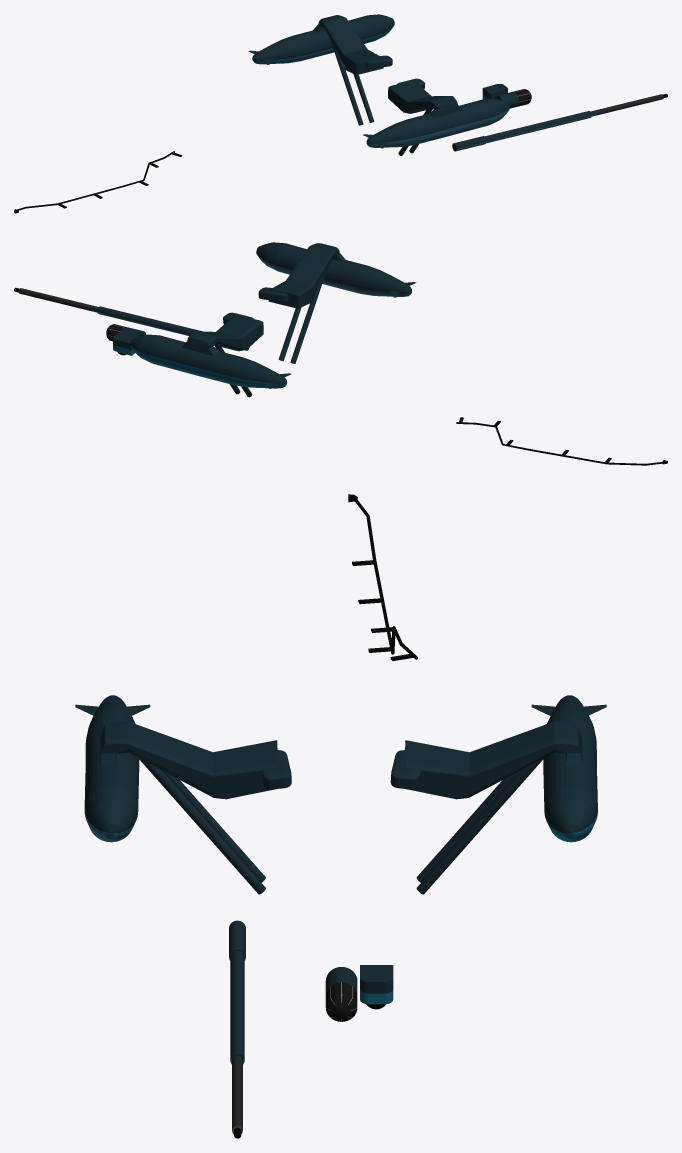
File: UH60J_ocean.glb
3 views of the same model, one above another, from view 1: azimuth 30°, elevation 25°; view 2: azimuth 150°, elevation 25°; view 3: azimuth 270°, elevation 25° (orthographic). The views are drawn at different scales.
Parts seen in each view (by area): view 1: 円柱.003; view 2: 円柱.003; view 3: 円柱.003.
Boxes of the visible parts, x1,y1,x2,y2 form: 円柱.003: (14,14,667,213); 円柱.003: (14,242,667,465); 円柱.003: (75,494,606,1138).
Bounding box in the file's own units: 14.73 × 1.87 × 5.42.
1 material, 1 textured.
